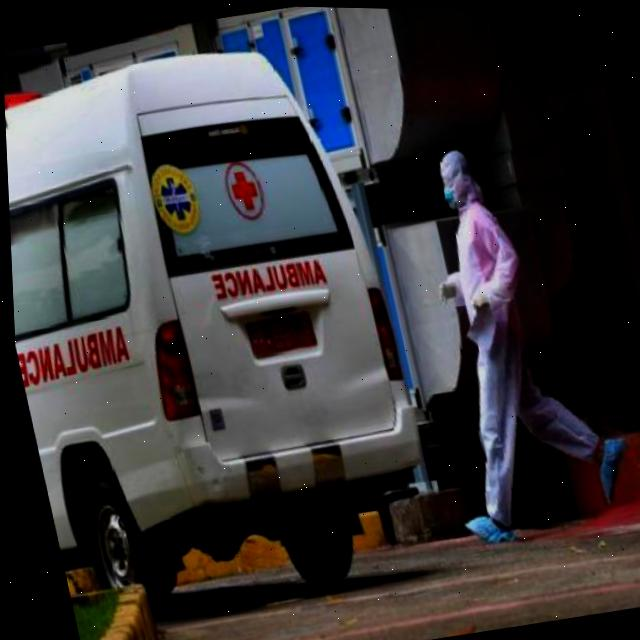emergency: (1, 18, 451, 631)
